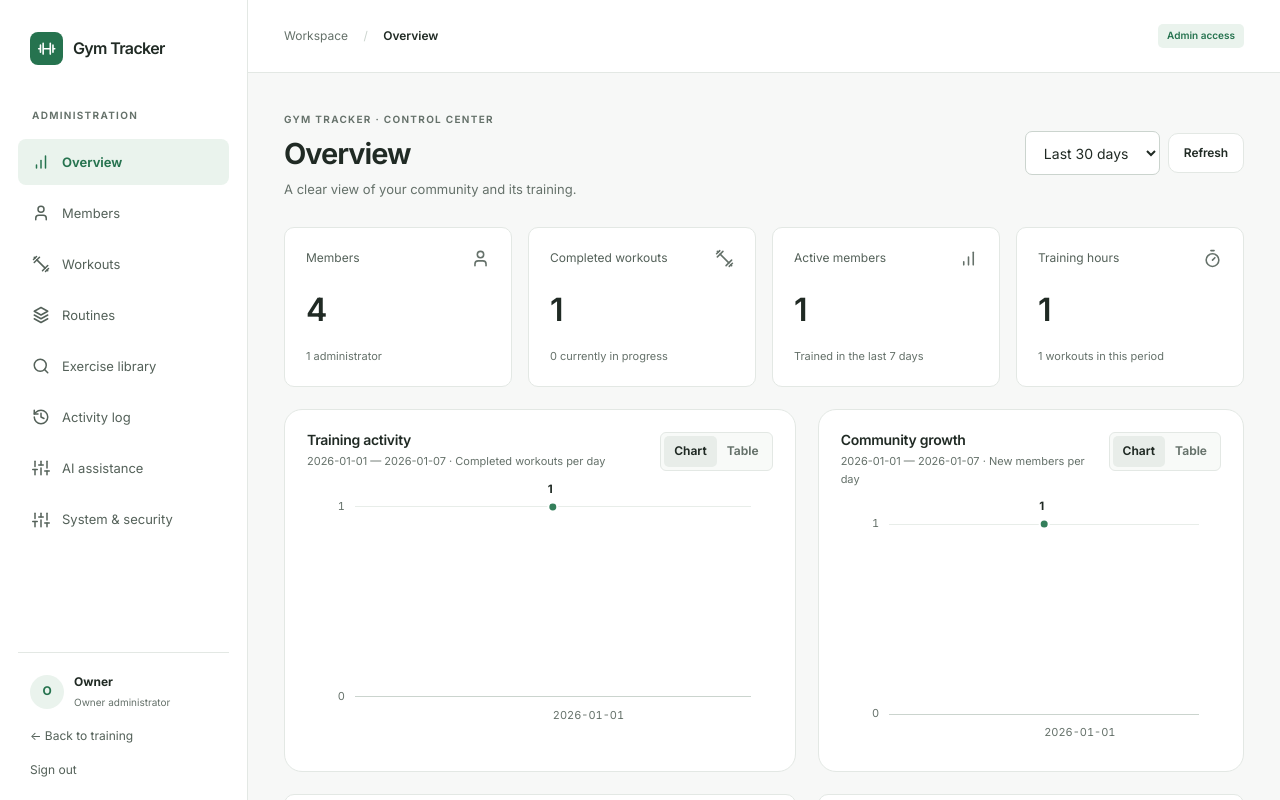
Test: switches from dashboard metrics to a table without rendering the old response shape
The image size is (1280, 800).
Expected: the heading "Training activity" is shown, top-left (307, 431), bottom-right (411, 448)
Click the button "Members" at [124, 213], box top-left (18, 190), bottom-right (229, 236)
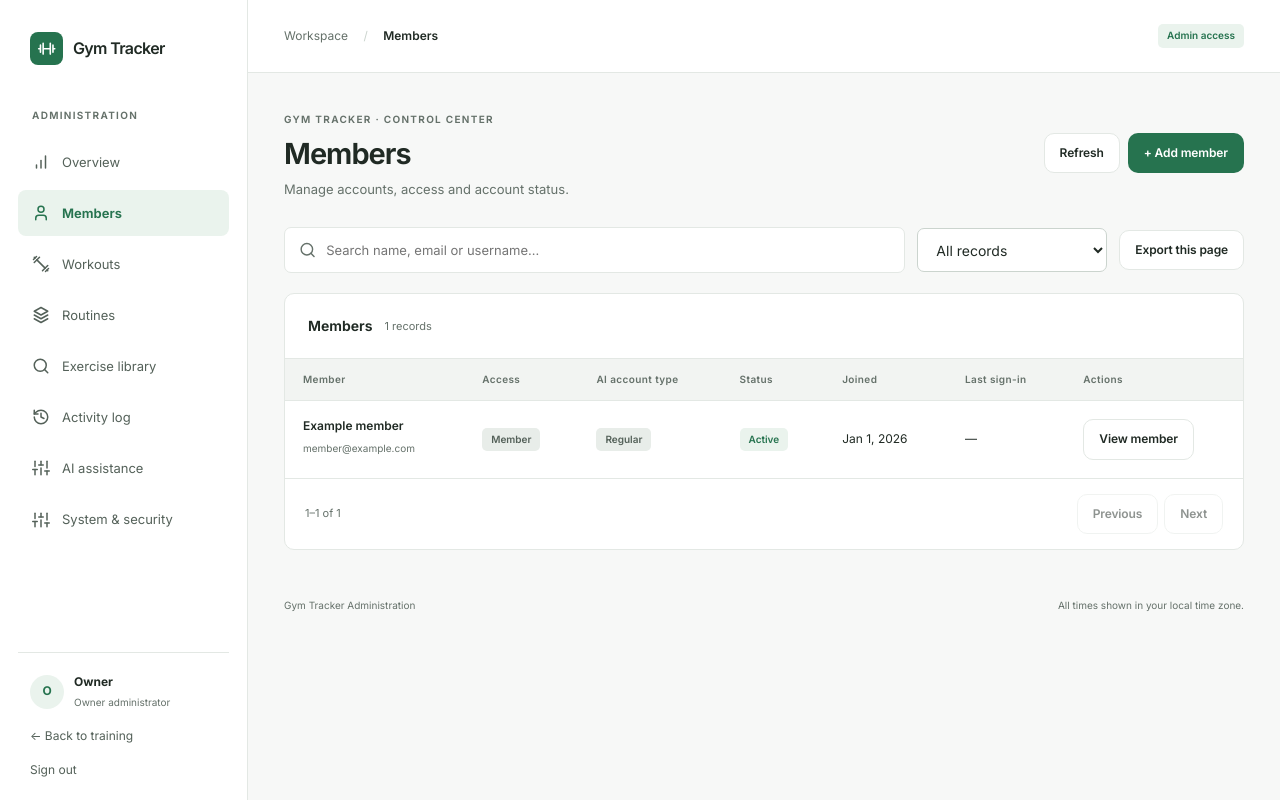
Now the text "Example member" is shown, box top-left (303, 418), bottom-right (404, 433)
Now the heading "Members" is shown, box top-left (284, 136), bottom-right (411, 171)
